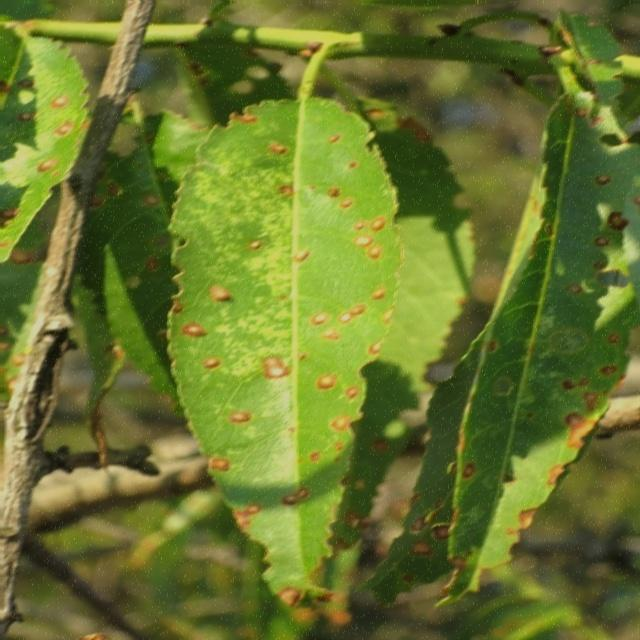shot_hole: (158, 80, 402, 638), (396, 82, 640, 640), (0, 0, 100, 288)
